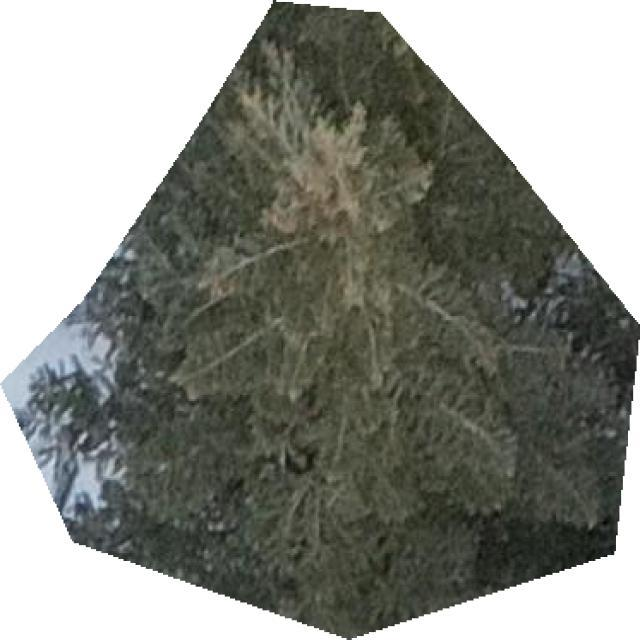spruce: (15, 2, 639, 639)
